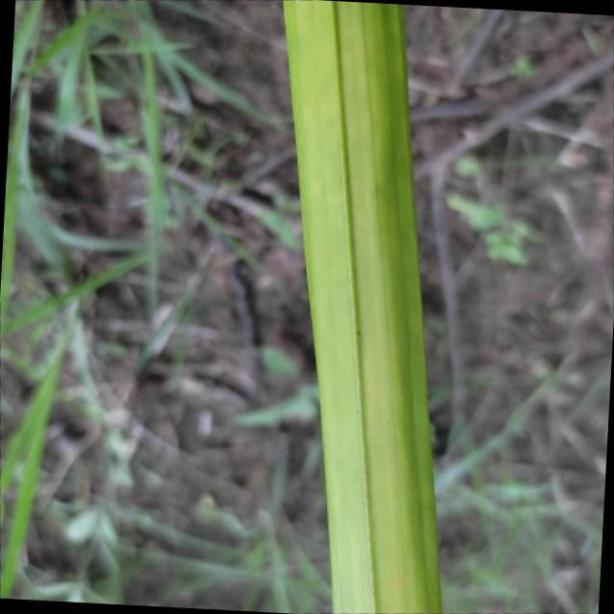nitrogen: (280, 0, 444, 614)
